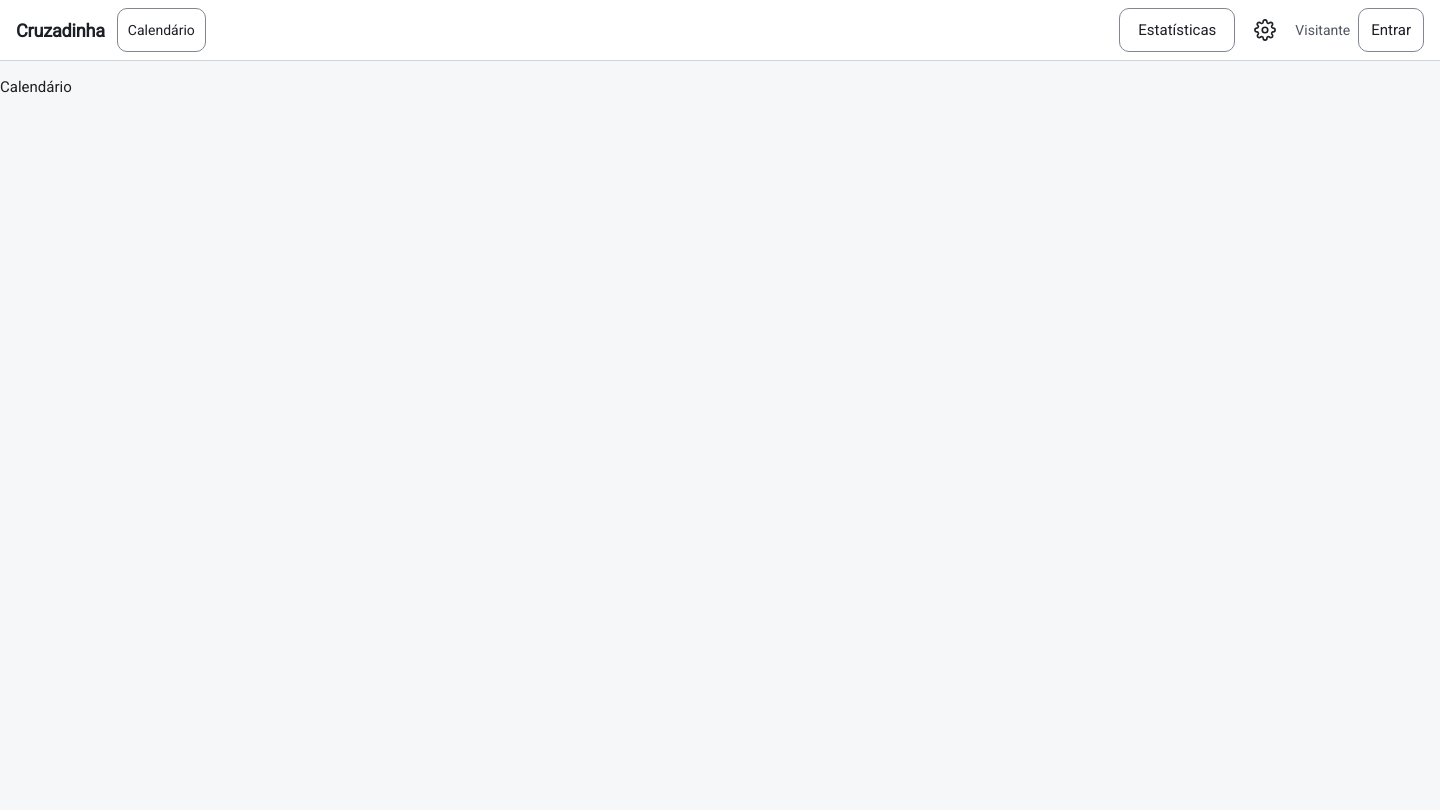
engrenagem do cabeçalho › tem nome, tooltip e abre a modal; o botão de tema antigo saiu
Step 1. Hover over the button named "Configurações" → (1265, 30), box [1243, 8, 1287, 52]
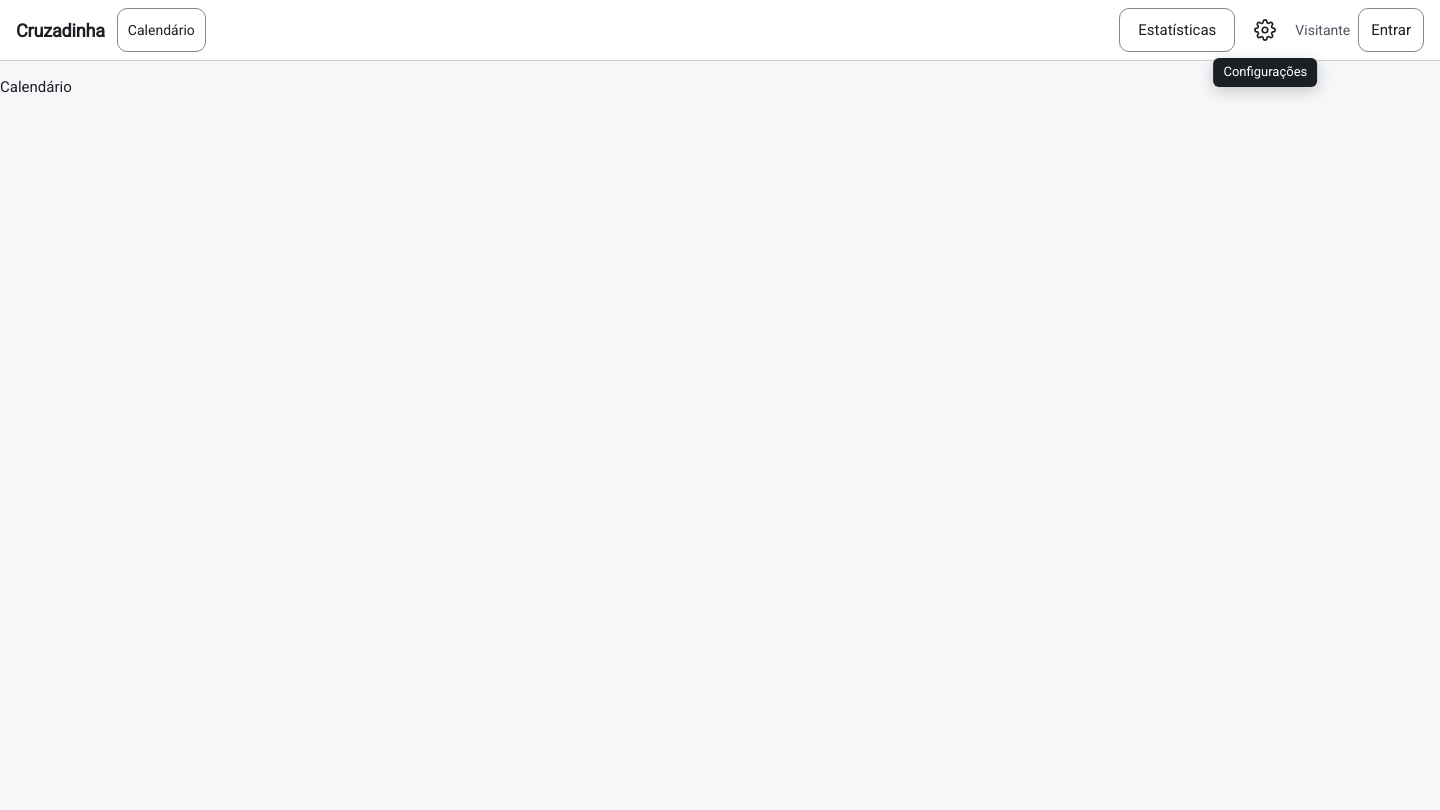
Check: the text "Configurações" is shown, box [1214, 58, 1317, 87]
Step 2. Click the button named "Configurações" → (1265, 30), box [1243, 8, 1287, 52]
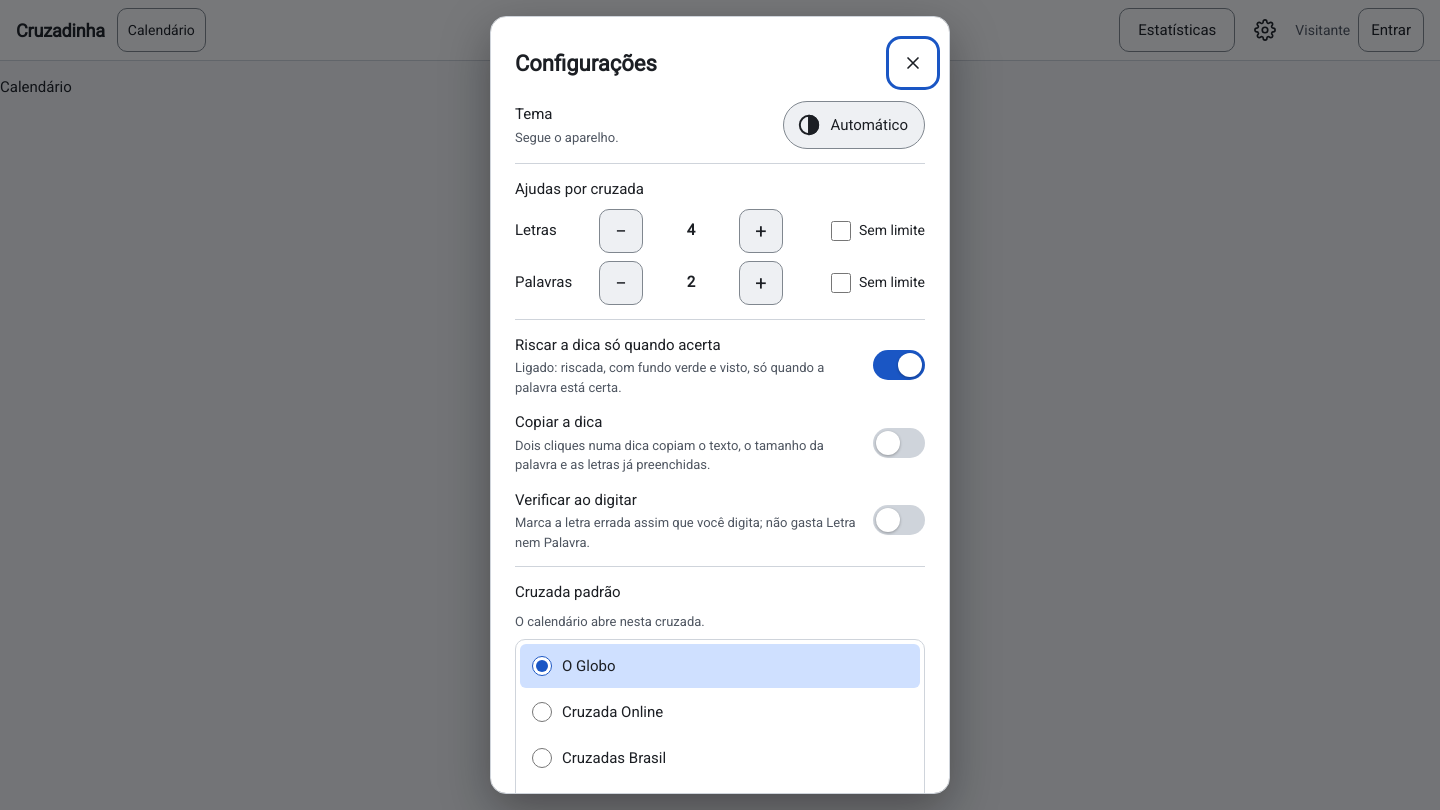
Check: the dialog "Configurações" is shown, box [490, 16, 950, 794]
